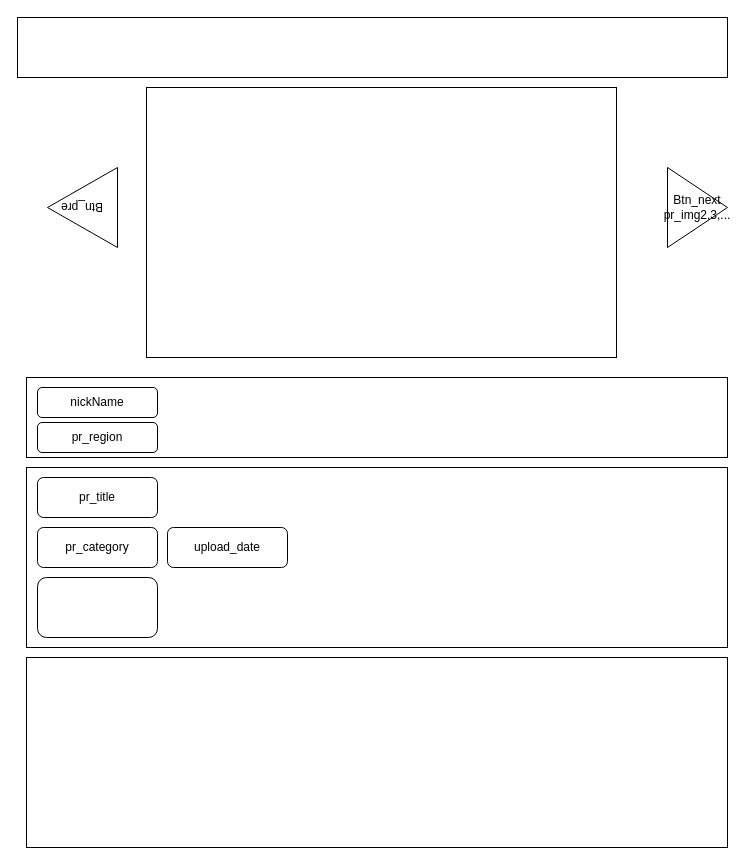
Some shapes in this 748 by 865 pixel diagram are drawn without their labels. The shapes that lost their labels are listed below. From the top down, each one's box as (x1, y1, x2, y2) in pixels, then its label:
(16, 16, 728, 78): Nav bar
(146, 86, 616, 358): pr_img_1
(36, 576, 158, 638): pr_price
(26, 656, 728, 848): pr_detail
